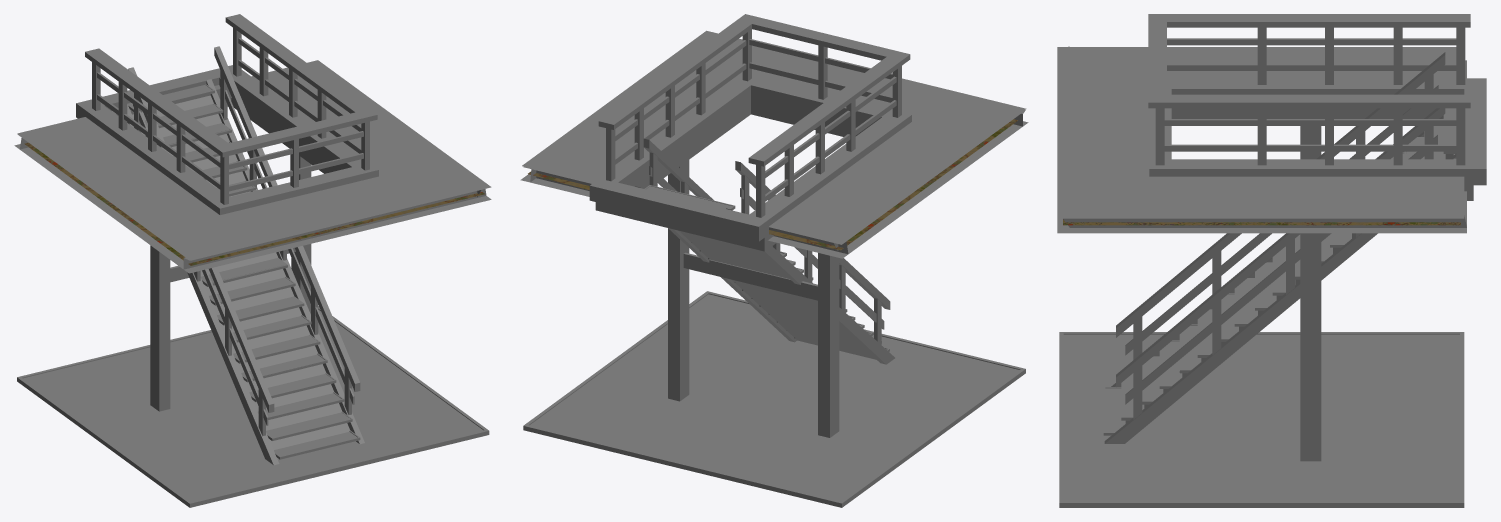
The model's file is FL2_Stairs.fbx.
The picture shows the model from 3 angles, left to right: view 1: azimuth 30°, elevation 25°; view 2: azimuth 150°, elevation 25°; view 3: azimuth 270°, elevation 25°; orthographic projection. The views are drawn at different scales.
Visible parts, largest first — view 1: FL2_Stairs; view 2: FL2_Stairs; view 3: FL2_Stairs.
Part boxes in pixels (x1,y1,x2,y2): FL2_Stairs: (14, 14, 491, 507); FL2_Stairs: (520, 14, 1028, 507); FL2_Stairs: (1057, 14, 1486, 507).
Size of the model in its own units: 505 by 516 by 530.
